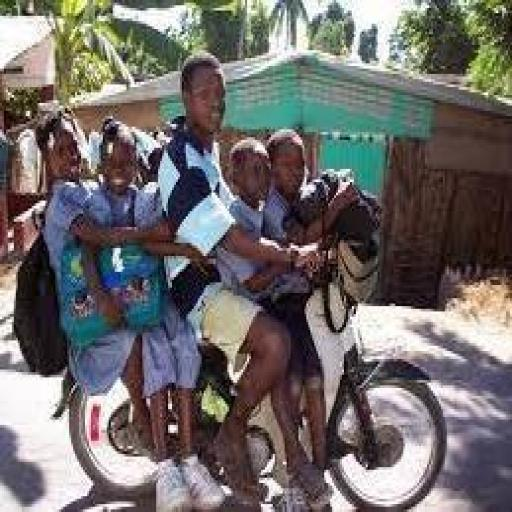no helmet: (168, 40, 245, 157)
triple riding: (6, 37, 470, 507)
